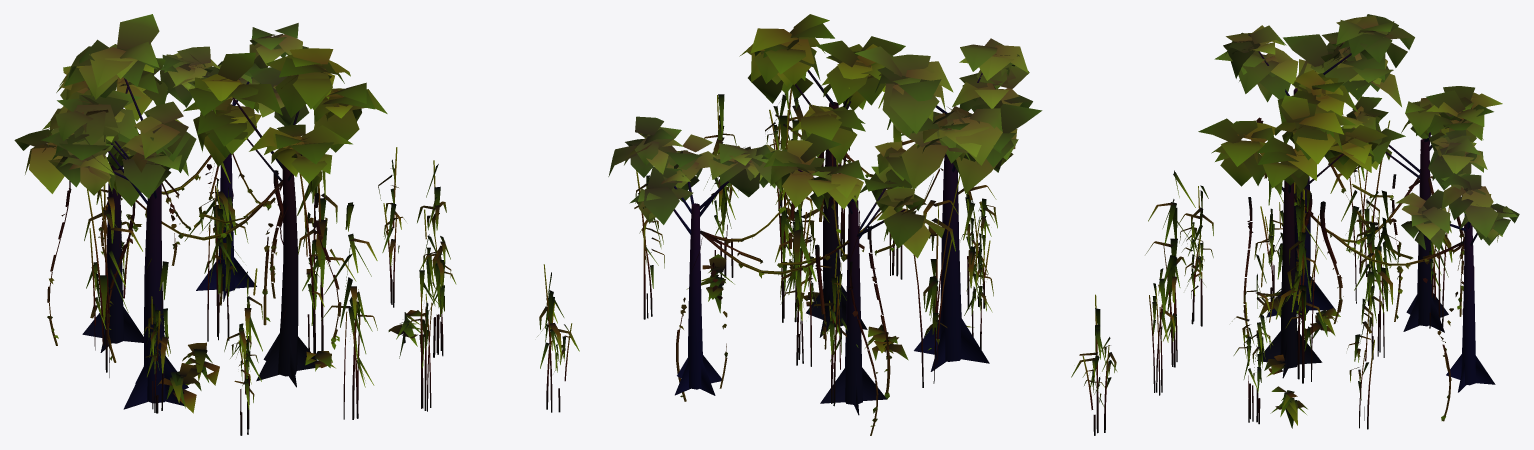
File: patch_tangle_far.glb
3 views of the same model, side by side, from view 1: azimuth 30°, elevation 25°; view 2: azimuth 150°, elevation 25°; view 3: azimuth 270°, elevation 25° (orthographic). The views are drawn at different scales.
Parts seen in each view (by area): view 1: patch_tangle_far; view 2: patch_tangle_far; view 3: patch_tangle_far.
Boxes of the visible parts, box(x1,y1,x2,y2) form: patch_tangle_far: box(14, 14, 579, 435); patch_tangle_far: box(608, 14, 1042, 435); patch_tangle_far: box(1071, 14, 1519, 435).
Size of the model in its own units: 14.89 by 13.44 by 16.69.
1 material, 1 textured.
